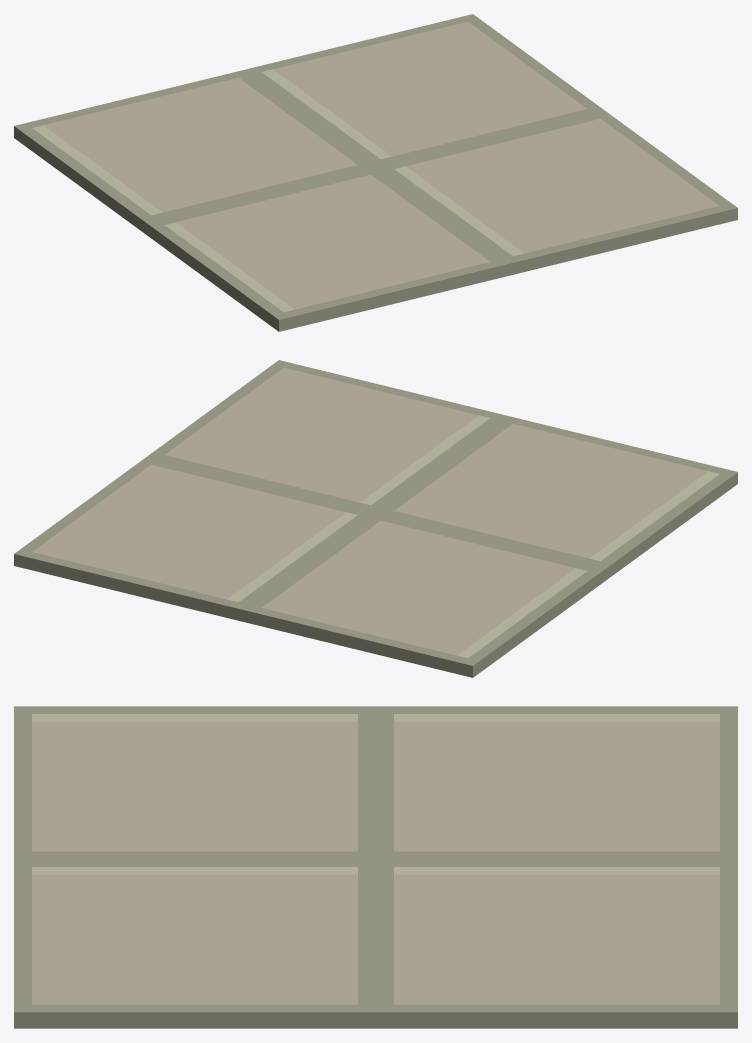
File: Chao_Liso_4quadros.obj
The picture shows the model from 3 angles, top to bottom: view 1: azimuth 30°, elevation 25°; view 2: azimuth 150°, elevation 25°; view 3: azimuth 270°, elevation 25°; orthographic projection. The views are drawn at different scales.
Bounding box in the file's own units: 40 × 1 × 40.
Materials: 1 (1 with a texture image).
